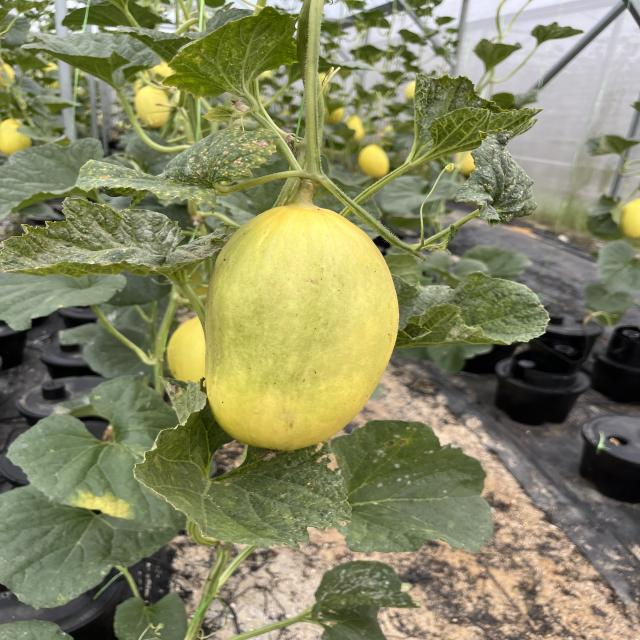CMV: (395, 271, 551, 348)
SLCV: (126, 439, 365, 562), (58, 122, 296, 212), (0, 201, 246, 287), (408, 66, 542, 172), (430, 138, 551, 230)
downy mildew: (156, 7, 303, 104)
